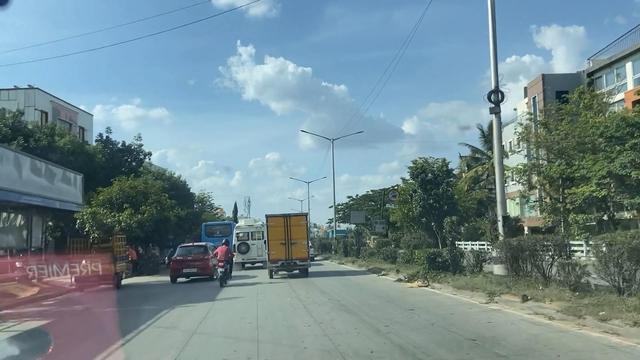HMV: (267, 210, 311, 276), (233, 218, 271, 271)
LMV: (173, 242, 217, 276), (217, 240, 234, 283)
